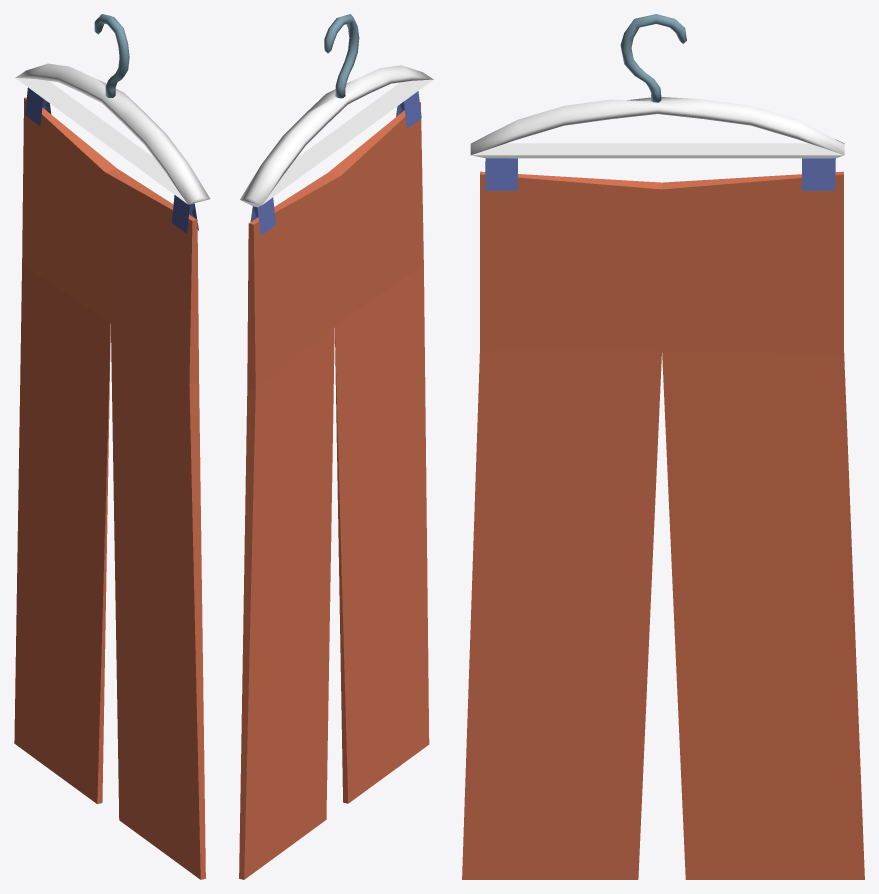
Rendered from pants.fbx.
3 renders of one model, left to right at view 1: azimuth 30°, elevation 25°; view 2: azimuth 150°, elevation 25°; view 3: azimuth 270°, elevation 25°, orthographic. The views are drawn at different scales.
Visible parts, largest first — view 1: Cube.014, Cube.015; view 2: Cube.014, Cube.015; view 3: Cube.014, Cube.015.
Part boxes in pixels (<box>): Cube.014: <box>14,97,205,879</box>; Cube.015: <box>15,14,210,233</box>; Cube.014: <box>239,102,429,879</box>; Cube.015: <box>240,14,433,235</box>; Cube.014: <box>462,171,864,879</box>; Cube.015: <box>470,14,844,190</box>.
Bounding box in the file's own units: 13.56 × 460 × 195.
